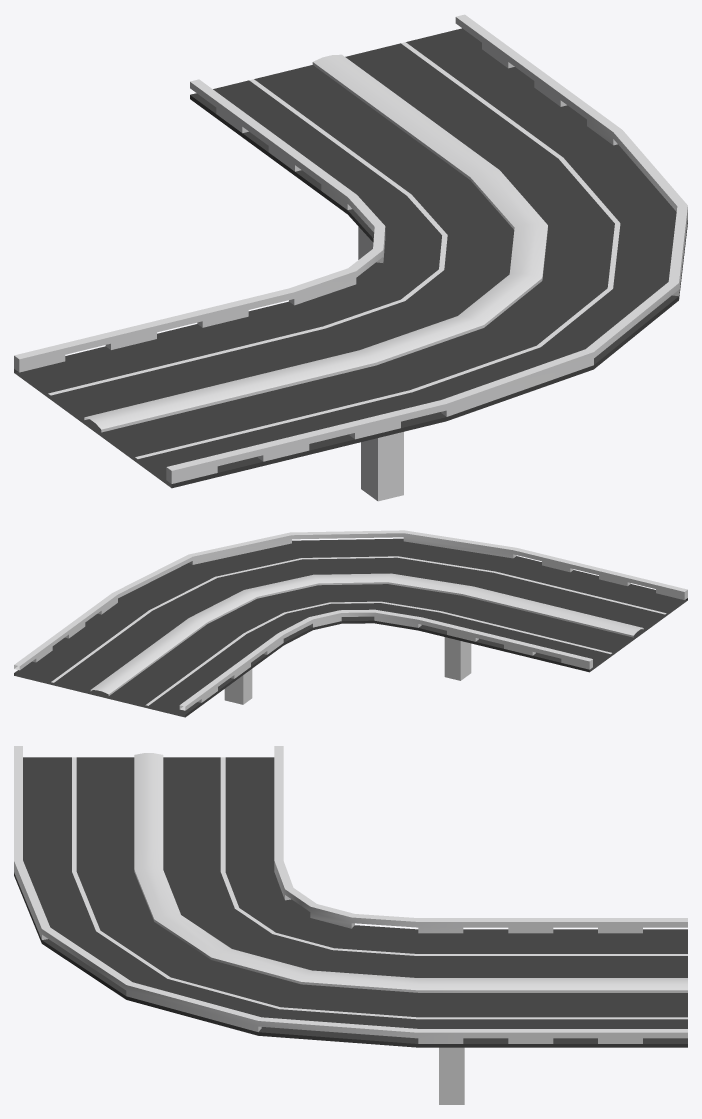
File: curved-highway-piece.fbx
3 views of the same model, one above another, from view 1: azimuth 30°, elevation 25°; view 2: azimuth 150°, elevation 25°; view 3: azimuth 270°, elevation 25° (orthographic). The views are drawn at different scales.
Parts seen in each view (by area): view 1: curved-highway-piece; view 2: curved-highway-piece; view 3: curved-highway-piece.
Part boxes in pixels (bbox=[...]): curved-highway-piece: bbox=[14, 14, 687, 501]; curved-highway-piece: bbox=[14, 530, 687, 717]; curved-highway-piece: bbox=[14, 746, 687, 1104].
Size of the model in its own units: 45.85 by 6.5 by 45.55.
